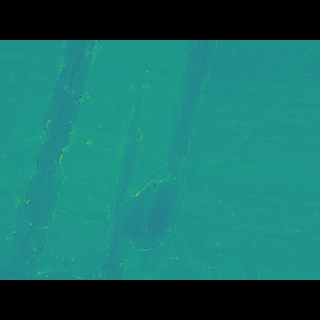Loch: (73, 70, 319, 250), (0, 70, 112, 249)
